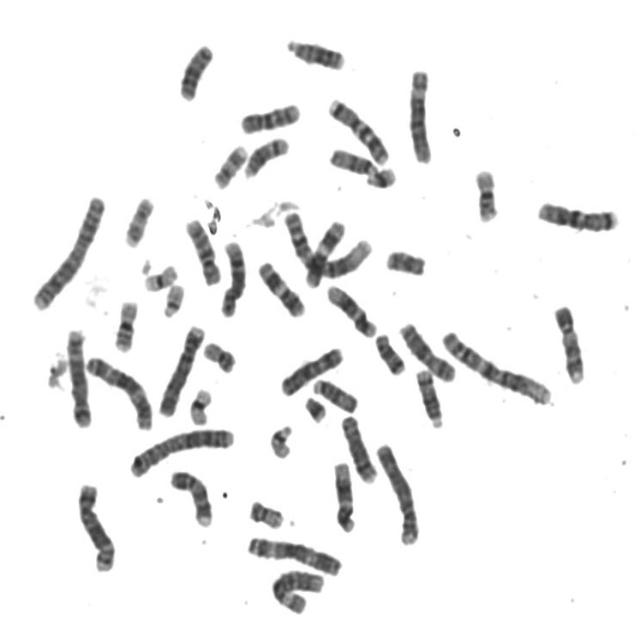A1: (436, 323, 555, 407), (278, 204, 374, 281)
A2: (27, 188, 108, 312), (124, 420, 238, 479)
A3: (80, 348, 155, 432), (242, 529, 345, 578)
B4: (371, 436, 422, 546), (152, 317, 206, 419)
B5: (72, 476, 117, 574), (61, 321, 93, 428)
C10: (179, 210, 223, 287), (235, 95, 302, 136)
C11: (252, 254, 308, 320), (301, 213, 348, 288)
C12: (321, 277, 379, 338), (328, 455, 358, 534)
C6: (402, 62, 436, 165), (266, 564, 326, 616)
C7: (322, 92, 392, 166), (531, 194, 621, 234)
C8: (335, 408, 379, 486), (214, 233, 249, 319)
C9: (548, 297, 587, 385), (165, 463, 214, 529)
D13: (173, 36, 216, 102), (281, 30, 346, 72)
D14: (238, 130, 291, 180), (410, 362, 446, 429)
D15: (308, 371, 360, 414), (324, 141, 380, 177)
E16: (107, 293, 141, 354), (469, 161, 501, 223)
E17: (208, 137, 250, 190), (119, 190, 156, 248)
E18: (369, 326, 407, 376), (380, 242, 428, 278)
F19: (137, 257, 179, 293), (183, 382, 214, 426)
F20: (243, 492, 286, 530), (198, 334, 237, 375)
G21: (361, 160, 398, 190), (299, 389, 328, 424)
G22: (264, 418, 295, 460), (157, 277, 186, 319)
X: (394, 316, 458, 384), (274, 339, 345, 397)
